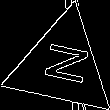N_W: (34, 41, 90, 90)
